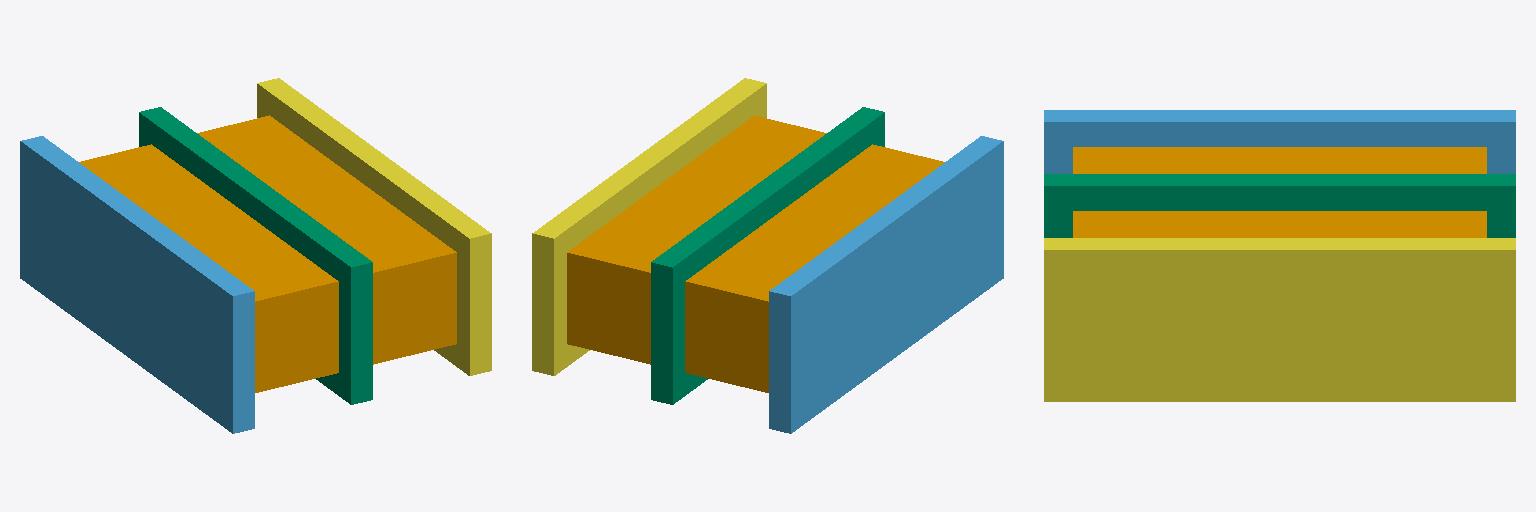
The robot description file, URDF, robot "debris012":
<?xml version="1.0" ?>
<robot name="debris012">

<link name="debris012">
<visual> <origin xyz="0 0 0" rpy="0 0 0" />
<geometry> <box size="0.58 0.74 0.20"/> </geometry>
</visual>
<collision> <origin xyz="0 0 0" rpy="0 0 0" />
<geometry> <box size="0.58 0.74 0.20"/> </geometry>
</collision>
<inertial> <origin xyz="0 0 0" rpy="0 0 0" />
<mass value="10.0" />
<inertia ixx="0.4284" ixy="0" ixz="0" iyy="0.4284" iyz="0" izz="0.4284" />
</inertial>
</link>
<gazebo reference="debris012"> <material>Gazebo/Granite</material> </gazebo>

<link name="debris0120">
<visual> <origin xyz="-0.27 0 0" rpy="0 0 0" />
<geometry> <box size="0.05 0.84 0.30"/> </geometry>
</visual>
<collision> <origin xyz="-0.27 0 0" rpy="0 0 0" />
<geometry> <box size="0.05 0.84 0.30"/> </geometry>
</collision>
<inertial> <origin xyz="0 0 0" rpy="0 0 0" />
<mass value="0.1" />
<inertia ixx="0.0100" ixy="0" ixz="0" iyy="0.0100" iyz="0" izz="0.0100" />
</inertial>
</link>
<gazebo reference="debris0120"> <material>Gazebo/Granite</material> </gazebo>

<joint name="debris0120joint" type="fixed">
<parent link="debris012"/>
<child link="debris0120"/>
<origin xyz="0 0 0" rpy="0 0 0" />
</joint>

<link name="debris0121">
<visual> <origin xyz="0.00 0 0" rpy="0 0 0" />
<geometry> <box size="0.05 0.84 0.30"/> </geometry>
</visual>
<collision> <origin xyz="0.00 0 0" rpy="0 0 0" />
<geometry> <box size="0.05 0.84 0.30"/> </geometry>
</collision>
<inertial> <origin xyz="0 0 0" rpy="0 0 0" />
<mass value="0.1" />
<inertia ixx="0.0100" ixy="0" ixz="0" iyy="0.0100" iyz="0" izz="0.0100" />
</inertial>
</link>
<gazebo reference="debris0121"> <material>Gazebo/Granite</material> </gazebo>

<joint name="debris0121joint" type="fixed">
<parent link="debris012"/>
<child link="debris0121"/>
<origin xyz="0 0 0" rpy="0 0 0" />
</joint>

<link name="debris0122">
<visual> <origin xyz="0.27 0 0" rpy="0 0 0" />
<geometry> <box size="0.05 0.84 0.30"/> </geometry>
</visual>
<collision> <origin xyz="0.27 0 0" rpy="0 0 0" />
<geometry> <box size="0.05 0.84 0.30"/> </geometry>
</collision>
<inertial> <origin xyz="0 0 0" rpy="0 0 0" />
<mass value="0.1" />
<inertia ixx="0.0100" ixy="0" ixz="0" iyy="0.0100" iyz="0" izz="0.0100" />
</inertial>
</link>
<gazebo reference="debris0122"> <material>Gazebo/Granite</material> </gazebo>

<joint name="debris0122joint" type="fixed">
<parent link="debris012"/>
<child link="debris0122"/>
<origin xyz="0 0 0" rpy="0 0 0" />
</joint>

</robot>

--- Render facts (derived) ---
Views: 3 orthographic renders of the robot side by side, from view 1: azimuth 30°, elevation 25°; view 2: azimuth 150°, elevation 25°; view 3: azimuth 270°, elevation 25°.
Robot: debris012 — 4 links, 3 joints (3 fixed); root link debris012; default pose: every joint at zero.
Visible links, largest first — view 1: debris012, debris0120, debris0122, debris0121; view 2: debris012, debris0120, debris0122, debris0121; view 3: debris0122, debris012, debris0120, debris0121.
Link boxes in pixels (x1,y1,x2,y2): debris012: (79, 115, 456, 392); debris0120: (20, 136, 254, 433); debris0122: (257, 78, 491, 375); debris0121: (139, 107, 372, 404); debris012: (567, 115, 944, 392); debris0120: (769, 136, 1003, 433); debris0122: (532, 78, 766, 375); debris0121: (651, 107, 884, 404); debris0122: (1044, 238, 1515, 401); debris012: (1073, 147, 1486, 237); debris0120: (1044, 110, 1515, 173); debris0121: (1044, 174, 1515, 237).
Bounding box of the posed robot: 0.59 × 0.84 × 0.3 m (x, y, z).
Geometry: primitives only (box / cylinder / sphere), no mesh files.
